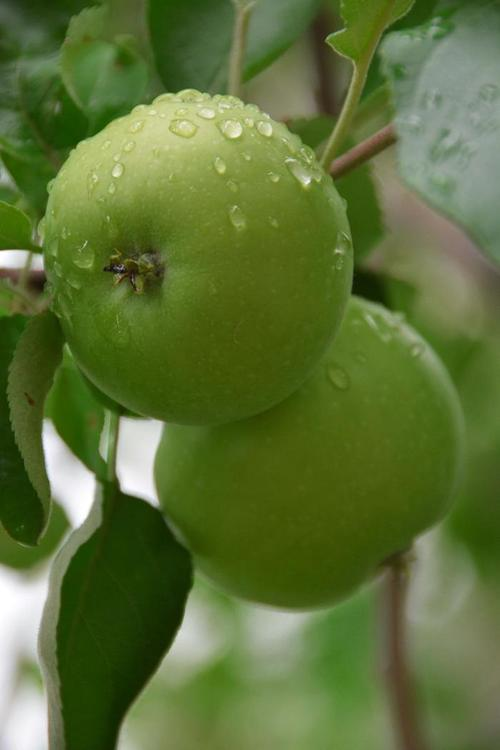unripe: (15, 90, 375, 430), (151, 293, 476, 622)
